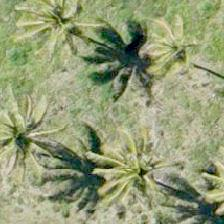Kelapa_Sawit: (79, 115, 169, 205), (134, 18, 223, 109), (0, 95, 62, 185), (15, 0, 105, 54)
